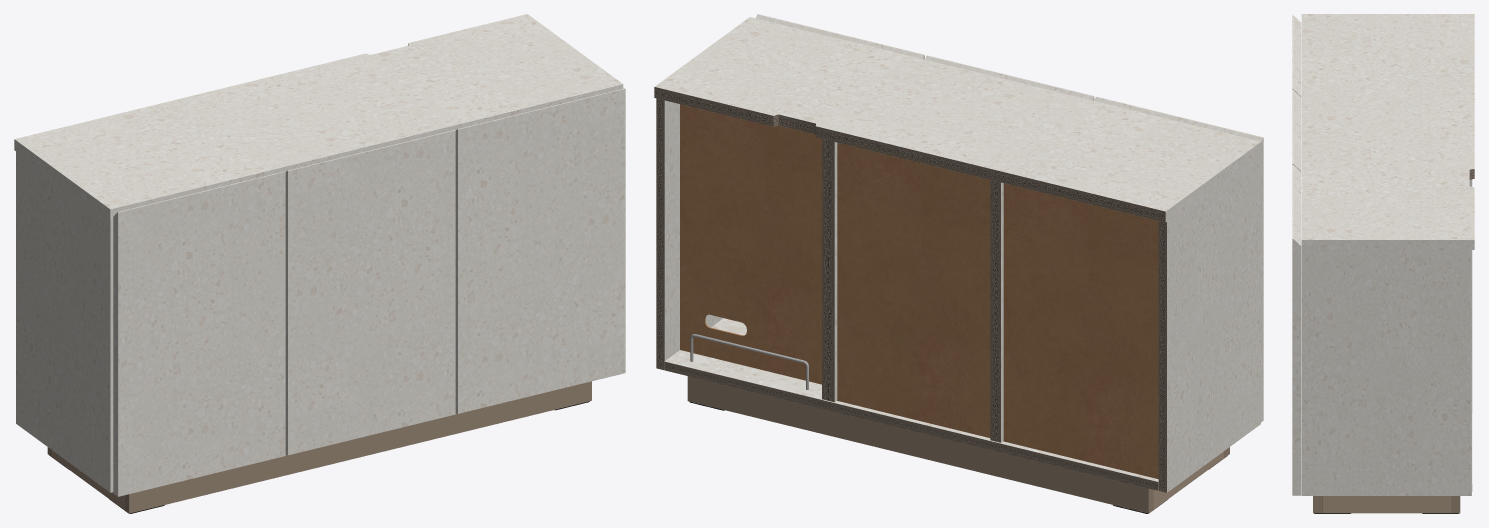
3 renders of one model, left to right at view 1: azimuth 30°, elevation 25°; view 2: azimuth 150°, elevation 25°; view 3: azimuth 270°, elevation 25°, orthographic. The views are drawn at different scales.
Visible parts, largest first — view 1: 3HWFL_LXMS8V; view 2: 3HWFL_LXMS8V; view 3: 3HWFL_LXMS8V.
Part boxes in pixels (box(x1,y1,x2,y2)): 3HWFL_LXMS8V: box(14, 14, 625, 513); 3HWFL_LXMS8V: box(654, 14, 1263, 513); 3HWFL_LXMS8V: box(1292, 14, 1474, 513).
Bounding box in the file's own units: 1.19 × 0.7031 × 0.4066.
8 materials, 3 textured.
